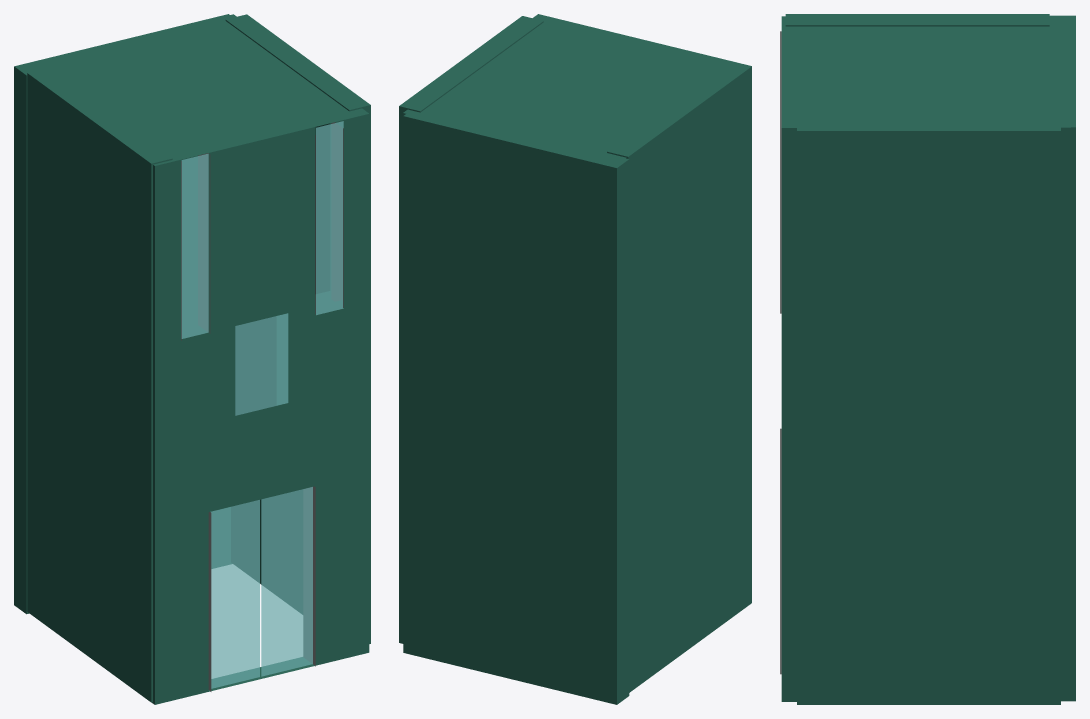
Rendered from ini bikin satu satu.fbx.
The picture shows the model from 3 angles, left to right: view 1: azimuth 30°, elevation 25°; view 2: azimuth 150°, elevation 25°; view 3: azimuth 270°, elevation 25°; orthographic projection. The views are drawn at different scales.
Visible parts, largest first — view 1: pCube1; view 2: pCube1; view 3: pCube1.
Boxes of the visible parts, box(x1,y1,x2,y2) form: pCube1: box(14, 14, 370, 704); pCube1: box(399, 14, 751, 704); pCube1: box(780, 14, 1075, 704).
Bounding box in the file's own units: 526 × 1205 × 560.
